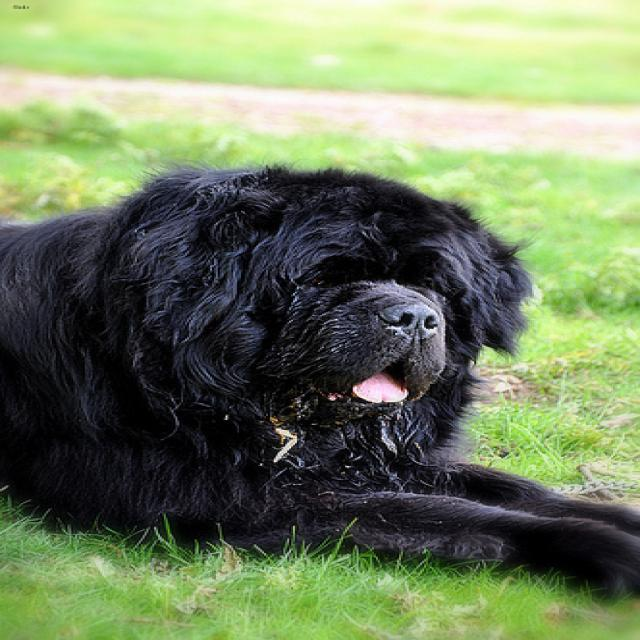dog-newfoundland: (2, 147, 636, 616)
